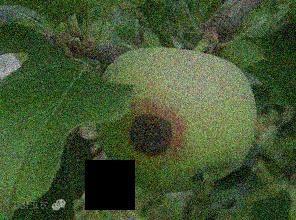rotten apple: (88, 48, 257, 195)
